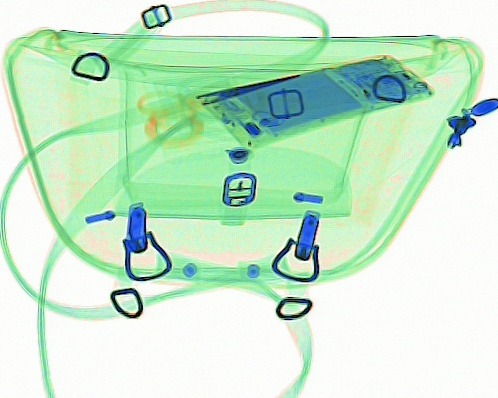scissors: (135, 67, 304, 149)
